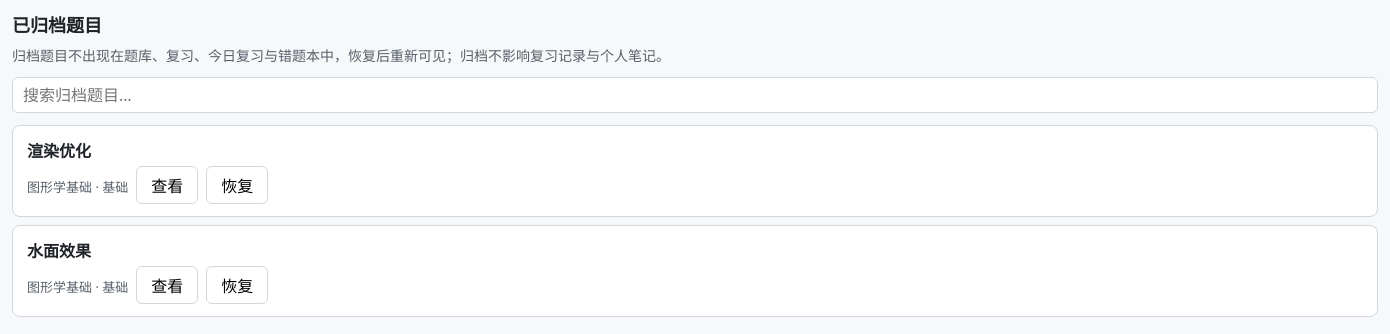
Test: ArchiveSection › 支持关键词搜索
The image size is (1390, 334).
Type "渲染" into the search field labelled "搜索归档题目" at (695, 95), box [12,77,1378,113]
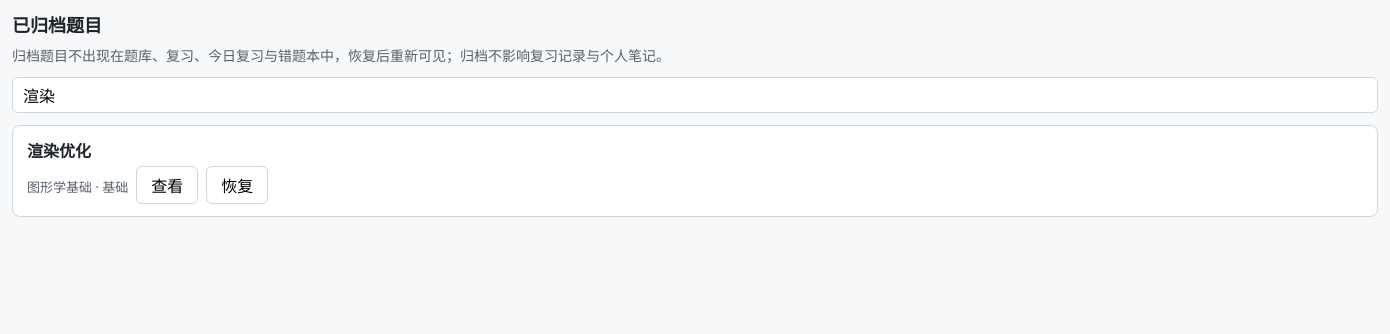
Check: the text "渲染优化" is shown, box [27,140,91,162]
Check: the text "水面效果" is gone
